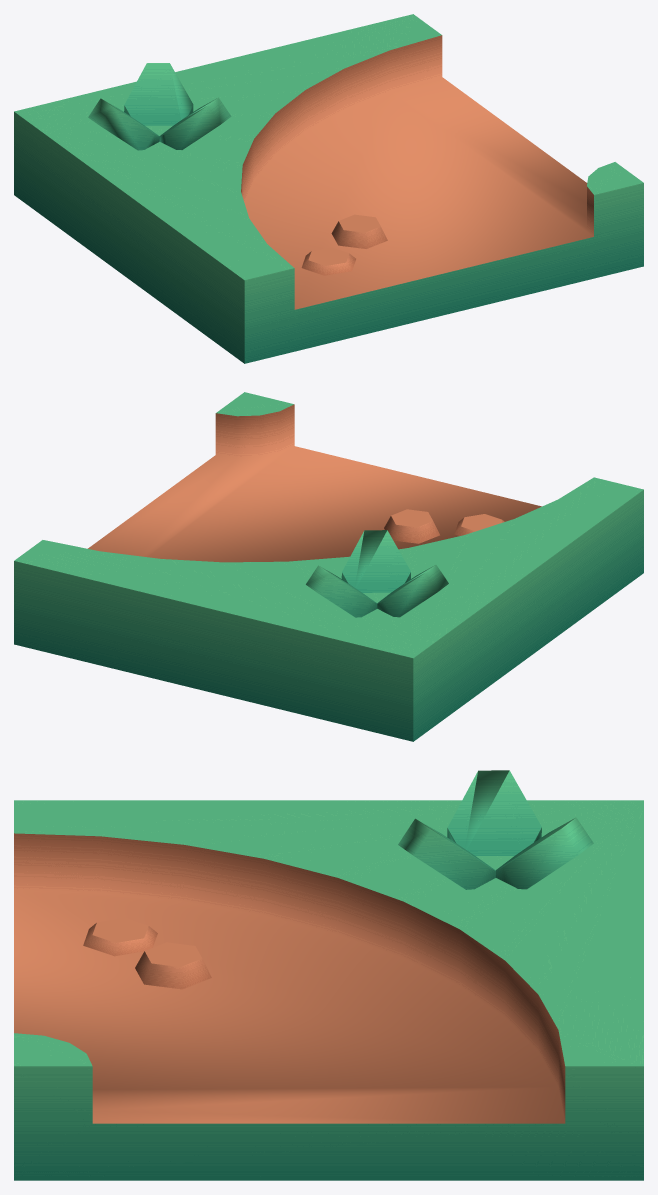
The model's file is tile-corner-round.glb.
3 views of the same model, one above another, from view 1: azimuth 30°, elevation 25°; view 2: azimuth 150°, elevation 25°; view 3: azimuth 270°, elevation 25° (orthographic). The views are drawn at different scales.
Parts seen in each view (by area): view 1: tile-corner-round; view 2: tile-corner-round; view 3: tile-corner-round.
Part boxes in pixels (x1,y1,x2,y2): tile-corner-round: (14,14,643,363); tile-corner-round: (14,392,643,741); tile-corner-round: (14,770,643,1180).
Bounding box in the file's own units: 1 × 0.296 × 1.
1 material, 1 textured.
